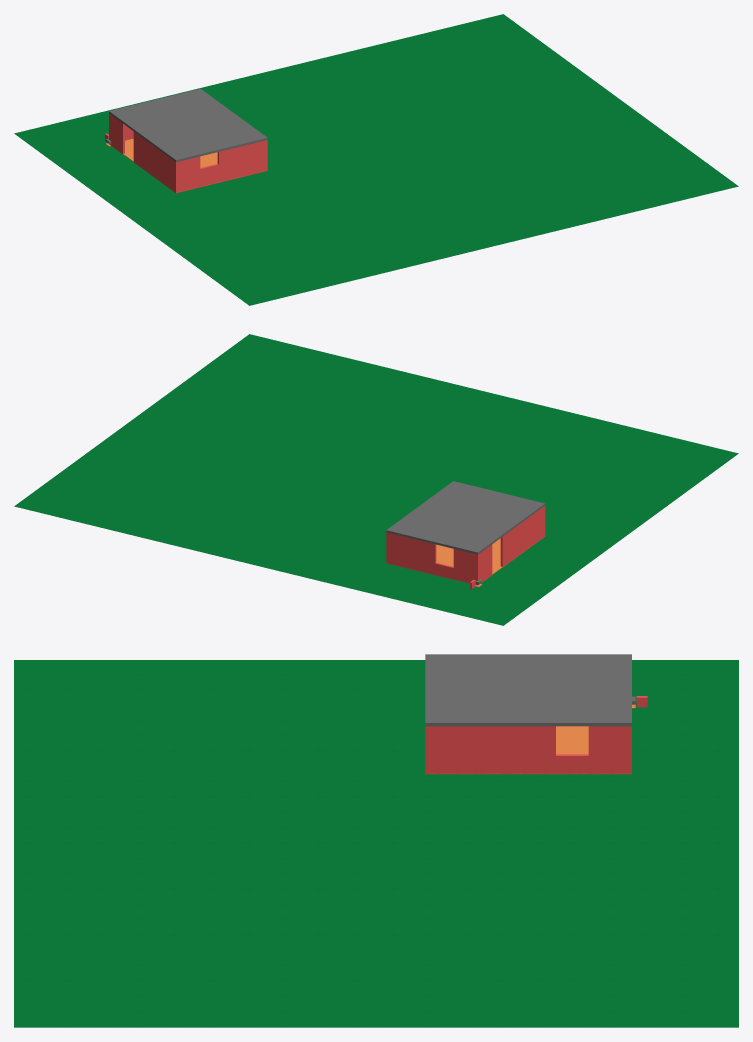
The model's file is house5_9_5_9_1.gltf.
3 views of the same model, one above another, from view 1: azimuth 30°, elevation 25°; view 2: azimuth 150°, elevation 25°; view 3: azimuth 270°, elevation 25° (orthographic). The views are drawn at different scales.
Bounding box in the file's own units: 480 × 32 × 400.
4 materials, 4 textured.
